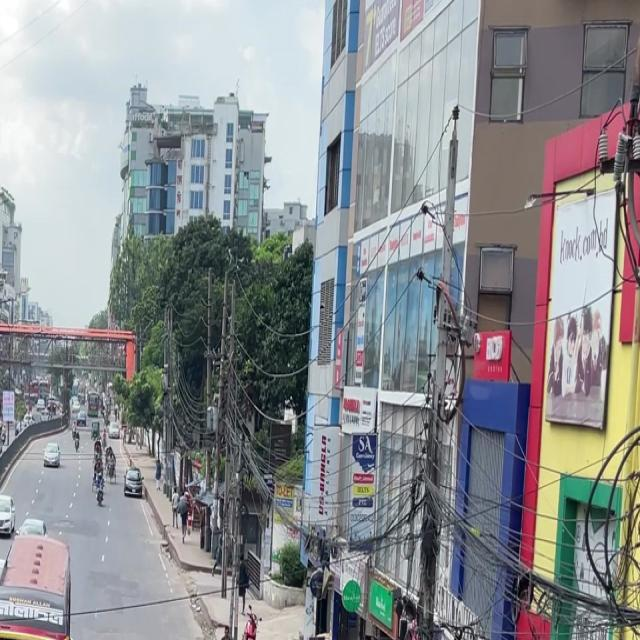bus: (0, 543, 73, 640)
car: (0, 487, 18, 546), (122, 464, 145, 504), (42, 438, 63, 474), (0, 547, 4, 626)
motorbike: (241, 602, 259, 640)
